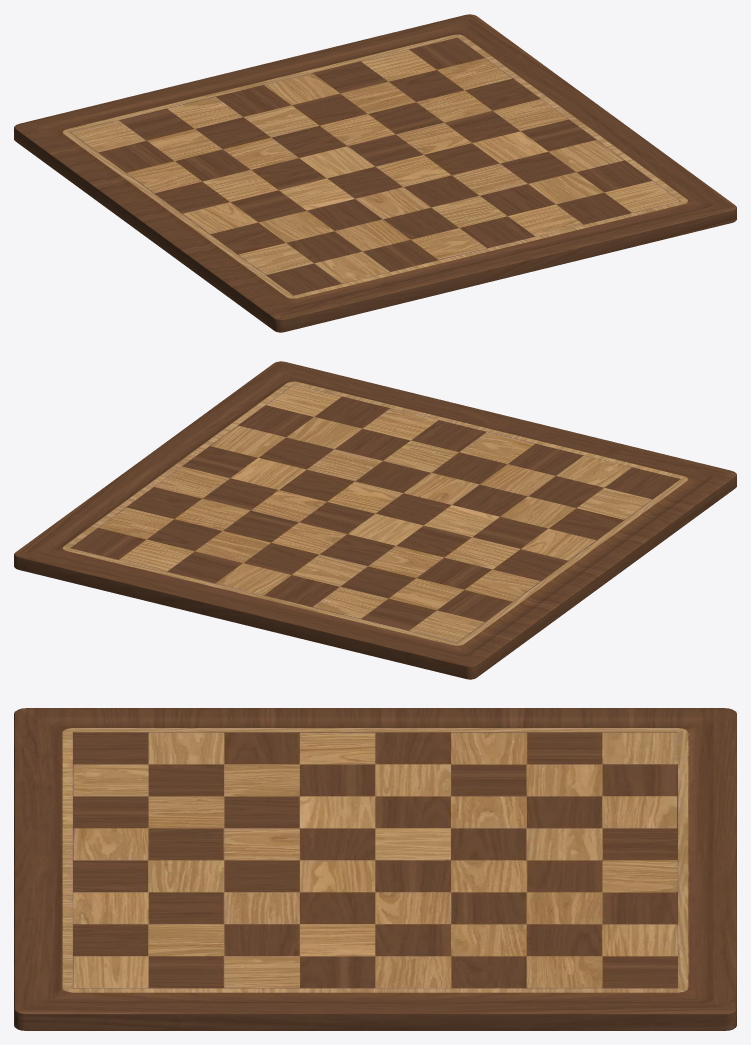
Rendered from chess-board-wood-v1-1k.glb.
The picture shows the model from 3 angles, top to bottom: view 1: azimuth 30°, elevation 25°; view 2: azimuth 150°, elevation 25°; view 3: azimuth 270°, elevation 25°; orthographic projection. The views are drawn at different scales.
Parts seen in each view (by area): view 1: board; view 2: board; view 3: board.
Boxes of the visible parts, x1,y1,x2,y2 form: board: (14,14,736,332); board: (14,361,736,679); board: (14,708,736,1030).
Bounding box in the file's own units: 0.5532 × 0.0174 × 0.5532.
1 material, 1 textured.
